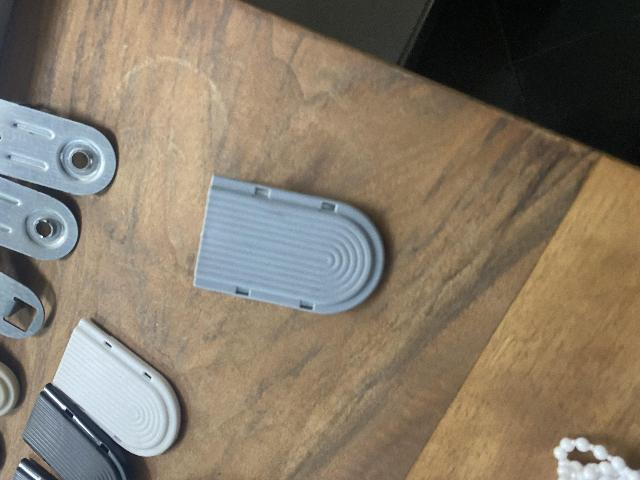Metal: (0, 97, 117, 198), (3, 181, 76, 259), (0, 268, 48, 335)
Plastik: (192, 178, 386, 317), (60, 324, 173, 452)
